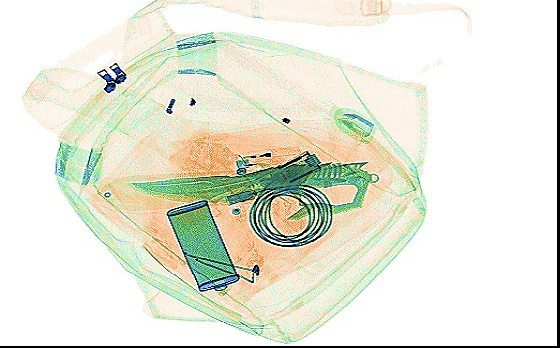knife: (128, 156, 379, 223)
lighter: (234, 143, 303, 173)
zippooil: (165, 198, 239, 294)
